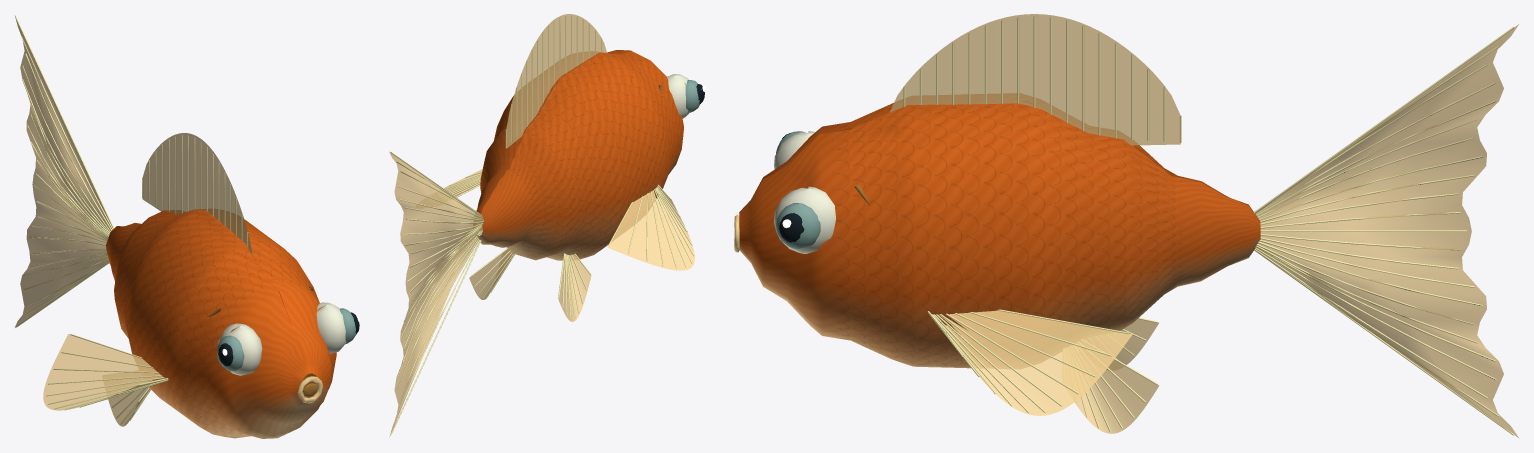
The model's file is goldfish-lite.glb.
The picture shows the model from 3 angles, left to right: view 1: azimuth 30°, elevation 25°; view 2: azimuth 150°, elevation 25°; view 3: azimuth 270°, elevation 25°; orthographic projection. The views are drawn at different scales.
Visible parts, largest first — view 1: Body, TailPivot membrane, DorsalPivot membrane, PectoralPivot-1 membrane, Eye sclera.001, Eye sclera, VentralPivot-1 membrane, Iris, TailPivot ray.022, TailPivot ray.021, Mouth rim, TailPivot ray.020 (+2 smaller); view 2: Body, TailPivot membrane, DorsalPivot membrane, PectoralPivot-1 membrane, VentralPivot-1 membrane, VentralPivot1 membrane, Eye sclera, PectoralPivot1 membrane, TailPivot ray, Iris, TailPivot ray.001; view 3: Body, TailPivot membrane, DorsalPivot membrane, PectoralPivot1 membrane, VentralPivot1 membrane, Eye sclera.001, Iris.001, VentralPivot-1 membrane, TailPivot ray.022.
Boxes of the visible parts, bbox=[...] form: Body: bbox=[106, 209, 336, 438]; TailPivot membrane: bbox=[14, 15, 111, 327]; DorsalPivot membrane: bbox=[142, 133, 252, 255]; PectoralPivot-1 membrane: bbox=[43, 334, 166, 410]; Eye sclera.001: bbox=[316, 302, 346, 353]; Eye sclera: bbox=[218, 323, 262, 375]; VentralPivot-1 membrane: bbox=[108, 387, 150, 426]; Iris: bbox=[217, 335, 244, 371]; TailPivot ray.022: bbox=[16, 18, 114, 228]; TailPivot ray.021: bbox=[21, 37, 113, 229]; Mouth rim: bbox=[297, 376, 323, 403]; TailPivot ray.020: bbox=[25, 53, 111, 230]; Body: bbox=[473, 50, 683, 260]; TailPivot membrane: bbox=[389, 151, 482, 437]; DorsalPivot membrane: bbox=[506, 14, 606, 148]; PectoralPivot-1 membrane: bbox=[608, 186, 694, 270]; VentralPivot-1 membrane: bbox=[558, 254, 591, 321]; VentralPivot1 membrane: bbox=[469, 249, 513, 299]; Eye sclera: bbox=[667, 74, 688, 118]; PectoralPivot1 membrane: bbox=[444, 169, 482, 196]; TailPivot ray: bbox=[390, 240, 481, 434]; Iris: bbox=[684, 80, 700, 112]; TailPivot ray.001: bbox=[395, 239, 480, 418]; Body: bbox=[739, 93, 1260, 368]; TailPivot membrane: bbox=[1255, 24, 1519, 438]; DorsalPivot membrane: bbox=[889, 14, 1180, 145]; PectoralPivot1 membrane: bbox=[939, 310, 1132, 415]; VentralPivot1 membrane: bbox=[1074, 360, 1159, 433]; Eye sclera.001: bbox=[774, 186, 835, 253]; Iris.001: bbox=[776, 203, 820, 249]; VentralPivot-1 membrane: bbox=[1116, 319, 1158, 364]; TailPivot ray.022: bbox=[1253, 27, 1514, 213].
Size of the model in its own units: 1.7 by 1.77 by 2.95.
Materials: 9 (1 with a texture image).
